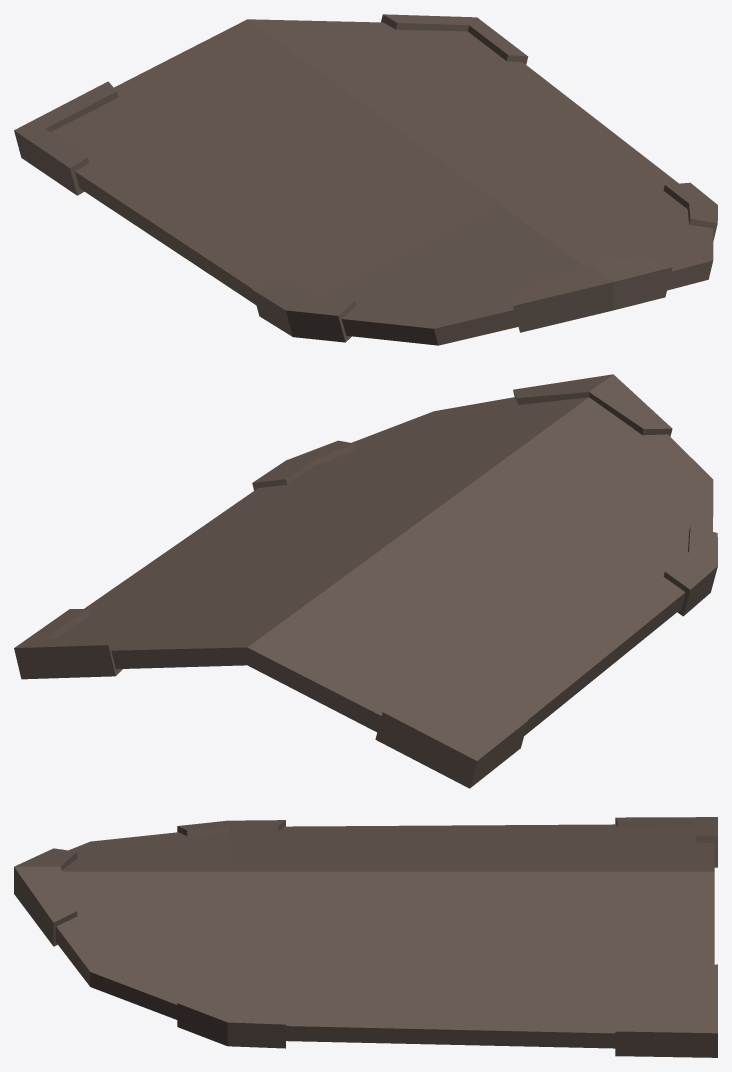
Rendered from Shield.fbx.glb.
3 renders of one model, top to bottom at view 1: azimuth 30°, elevation 25°; view 2: azimuth 150°, elevation 25°; view 3: azimuth 270°, elevation 25°, orthographic. The views are drawn at different scales.
Parts seen in each view (by area): view 1: Shield.1; view 2: Shield.1; view 3: Shield.1.
Boxes of the visible parts, x1,y1,x2,y2 form: Shield.1: (14,14,717,345); Shield.1: (14,374,717,788); Shield.1: (14,817,717,1057).
Bounding box in the file's own units: 33.57 × 6.27 × 46.2.
